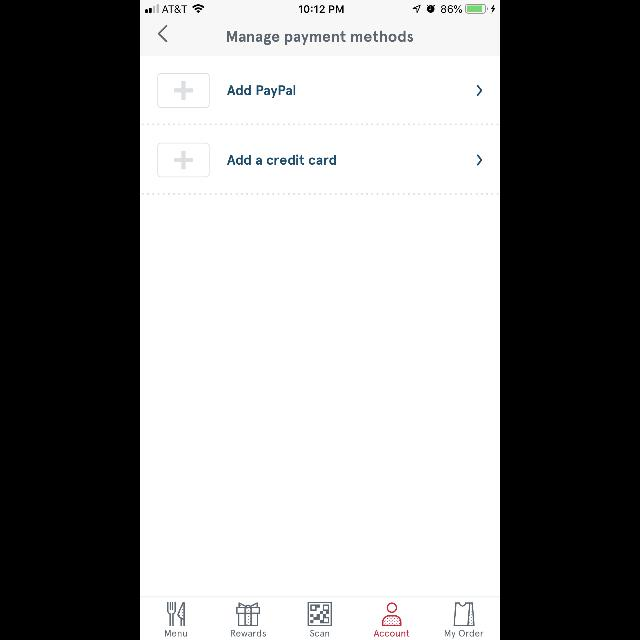icon: (158, 142, 210, 178), (158, 74, 210, 108), (236, 602, 260, 626), (382, 602, 402, 626), (158, 26, 168, 42), (476, 154, 482, 166), (478, 85, 482, 96)
image: (308, 602, 332, 626), (454, 602, 474, 626), (168, 602, 185, 626)
text: (227, 30, 413, 46), (228, 155, 336, 165), (227, 85, 295, 98), (444, 630, 484, 638), (374, 630, 410, 636), (232, 630, 266, 636), (165, 630, 187, 636), (310, 630, 330, 636)
uppertaskbar: (140, 0, 500, 14)
